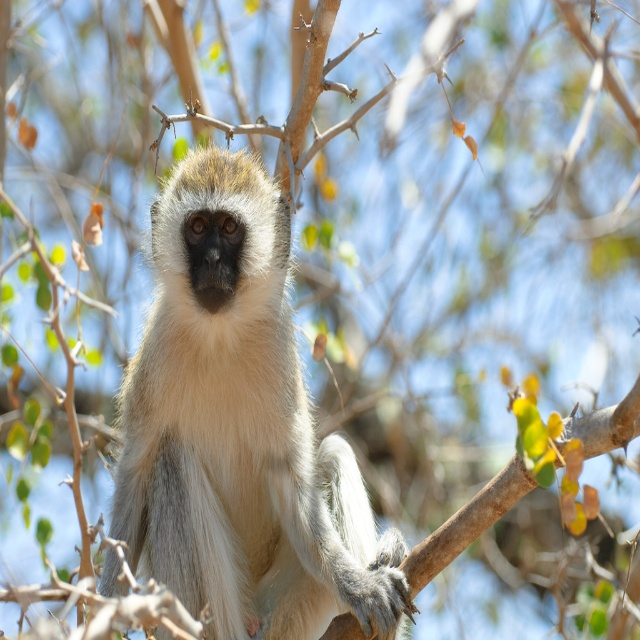Monkey: (97, 129, 420, 640)
